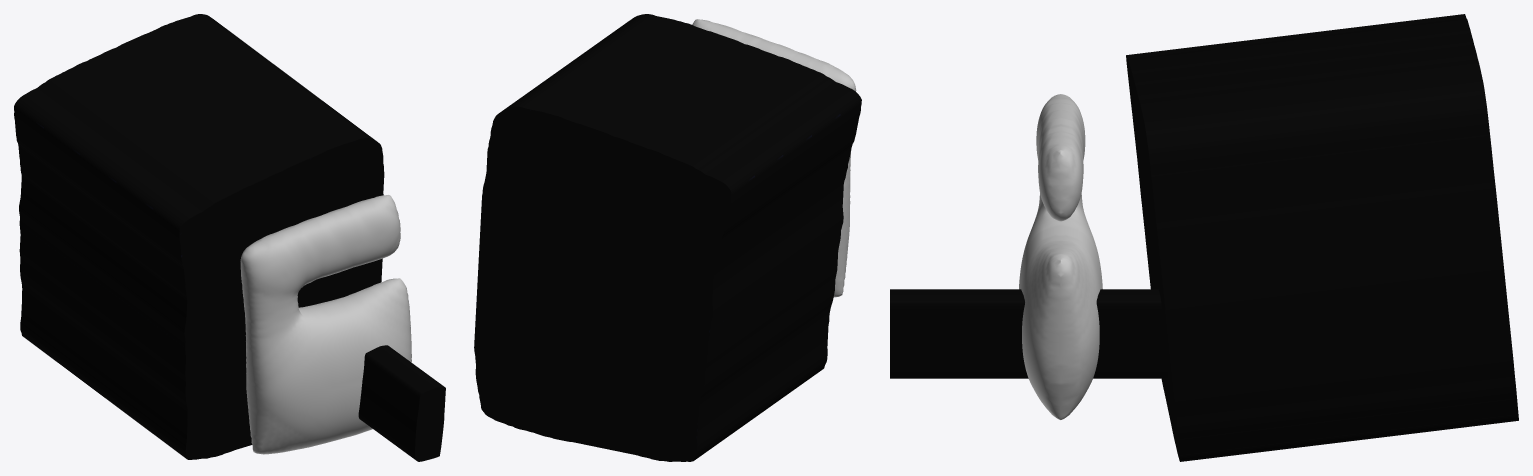
File: num6.glb
3 renders of one model, left to right at view 1: azimuth 30°, elevation 25°; view 2: azimuth 150°, elevation 25°; view 3: azimuth 270°, elevation 25°, orthographic. The views are drawn at different scales.
Parts seen in each view (by area): view 1: mesh_id32, mesh_id28, mesh_id26; view 2: mesh_id32, mesh_id28; view 3: mesh_id32, mesh_id28, mesh_id26.
Part boxes in pixels (x1,y1,x2,y2): mesh_id32: (14,14,384,459); mesh_id28: (240,195,411,454); mesh_id26: (358,345,445,461); mesh_id32: (474,14,861,461); mesh_id28: (692,19,856,297); mesh_id32: (1126,14,1518,461); mesh_id28: (1019,94,1102,419); mesh_id26: (890,289,1168,378).
Size of the model in its own units: 0.0962 by 0.1199 by 0.1841.
3 materials, 3 textured.
